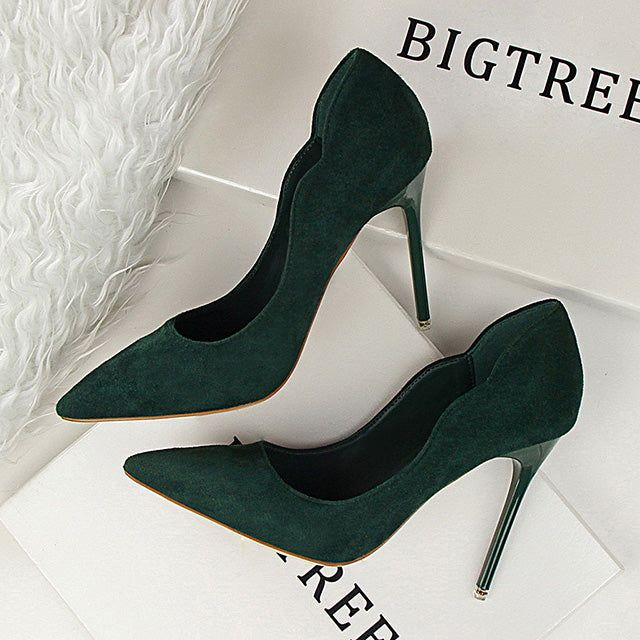gamuza: (55, 47, 584, 567)
